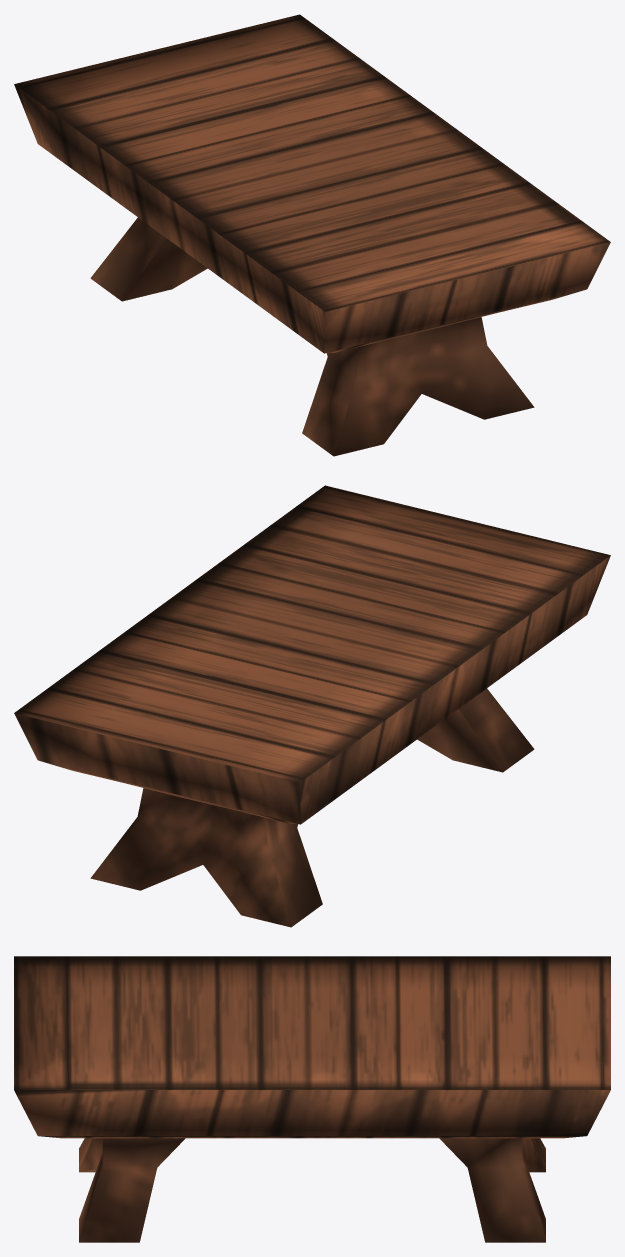
The model's file is table.glb.
The picture shows the model from 3 angles, top to bottom: view 1: azimuth 30°, elevation 25°; view 2: azimuth 150°, elevation 25°; view 3: azimuth 270°, elevation 25°; orthographic projection. The views are drawn at different scales.
Parts seen in each view (by area): view 1: Cube; view 2: Cube; view 3: Cube.
Part boxes in pixels (x1,y1,x2,y2): Cube: (14, 14, 610, 456); Cube: (14, 485, 610, 927); Cube: (14, 956, 610, 1242).
Size of the model in its own units: 3.51 by 2.11 by 6.61.
Materials: 1 (1 with a texture image).
